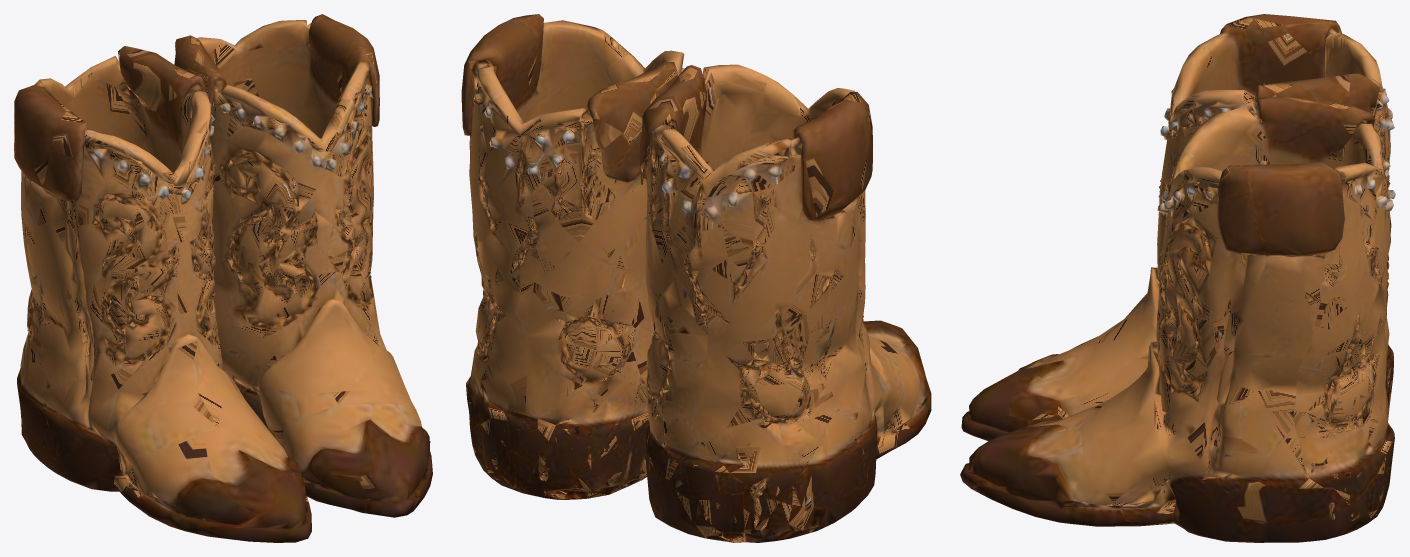
3 renders of one model, left to right at view 1: azimuth 30°, elevation 25°; view 2: azimuth 150°, elevation 25°; view 3: azimuth 270°, elevation 25°, orthographic. The views are drawn at different scales.
Size of the model in its own units: 1.76 by 1.81 by 1.9.
Materials: 1 (1 with a texture image).
